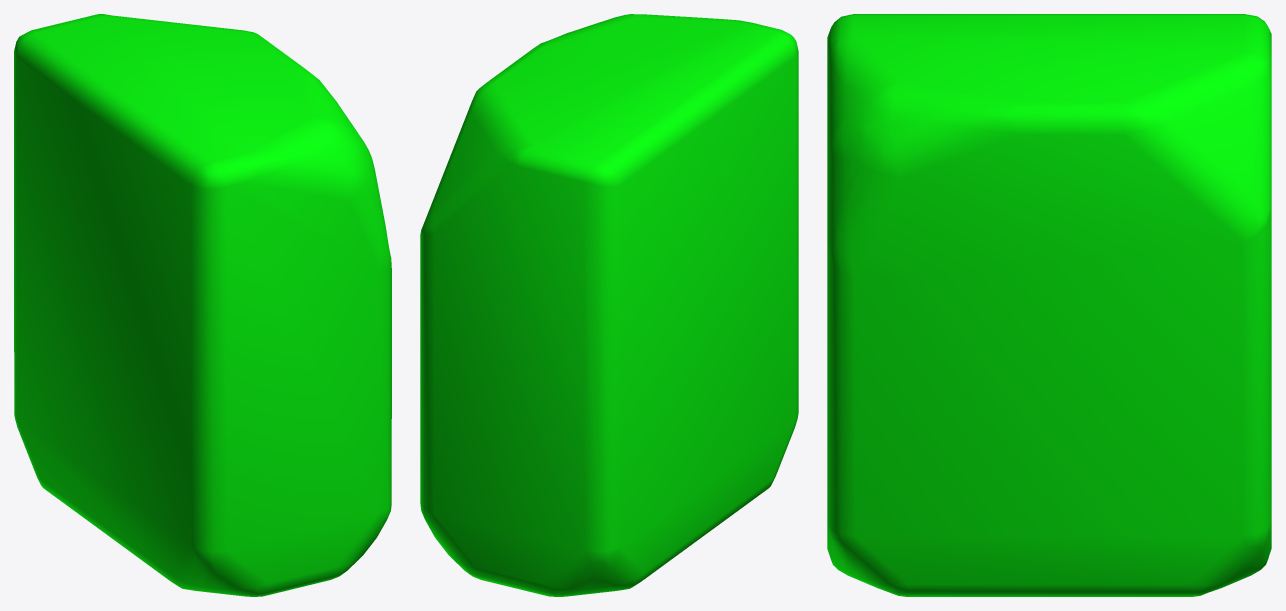
File: Green_Crystal_10.fbx
3 renders of one model, left to right at view 1: azimuth 30°, elevation 25°; view 2: azimuth 150°, elevation 25°; view 3: azimuth 270°, elevation 25°, orthographic. The views are drawn at different scales.
Parts seen in each view (by area): view 1: Green_Crystal_10; view 2: Green_Crystal_10; view 3: Green_Crystal_10.
Part boxes in pixels (x1,y1,x2,y2): Green_Crystal_10: (14, 14, 391, 596); Green_Crystal_10: (420, 14, 798, 596); Green_Crystal_10: (827, 14, 1271, 596).
Size of the model in its own units: 1.2 by 2.58 by 2.1.
